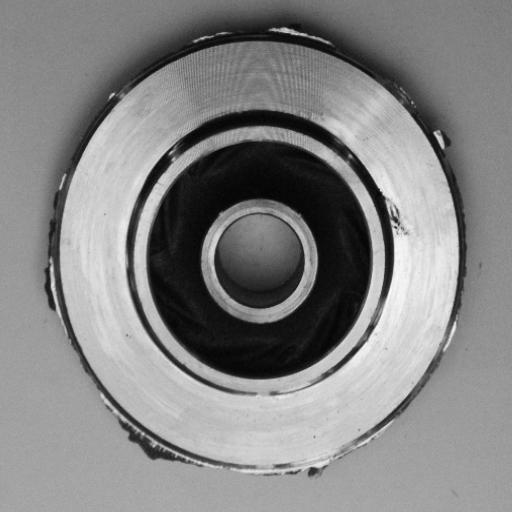casting_with_burr: (42, 20, 468, 484)
crack: (375, 186, 420, 246)
scratch: (238, 366, 341, 409)
